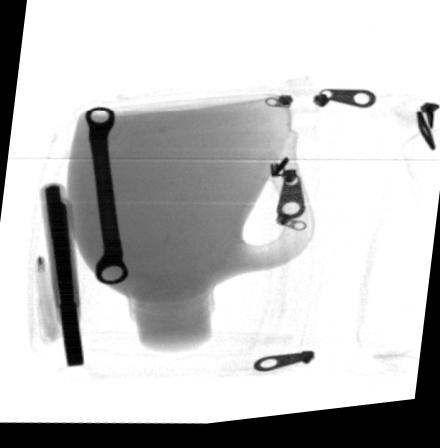Pliers: (42, 181, 83, 368)
Wrench: (82, 107, 127, 289)
